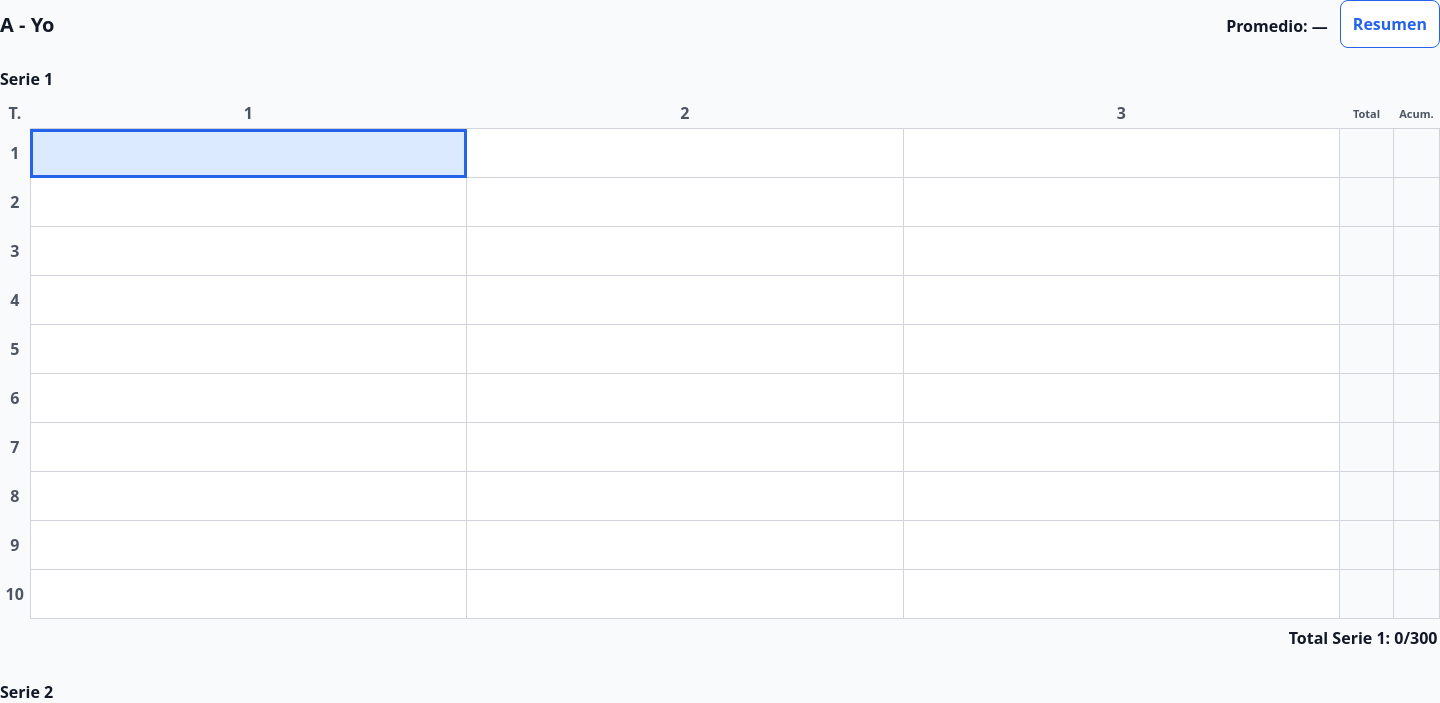
it: ScoringView › tapping an empty cell past the first gap writes out of order and leaves the gap
Click the button named "Serie 1, tanda 3, flecha 3: vacía": (1121, 251) [904,227,1339,275]
(page scrolled)
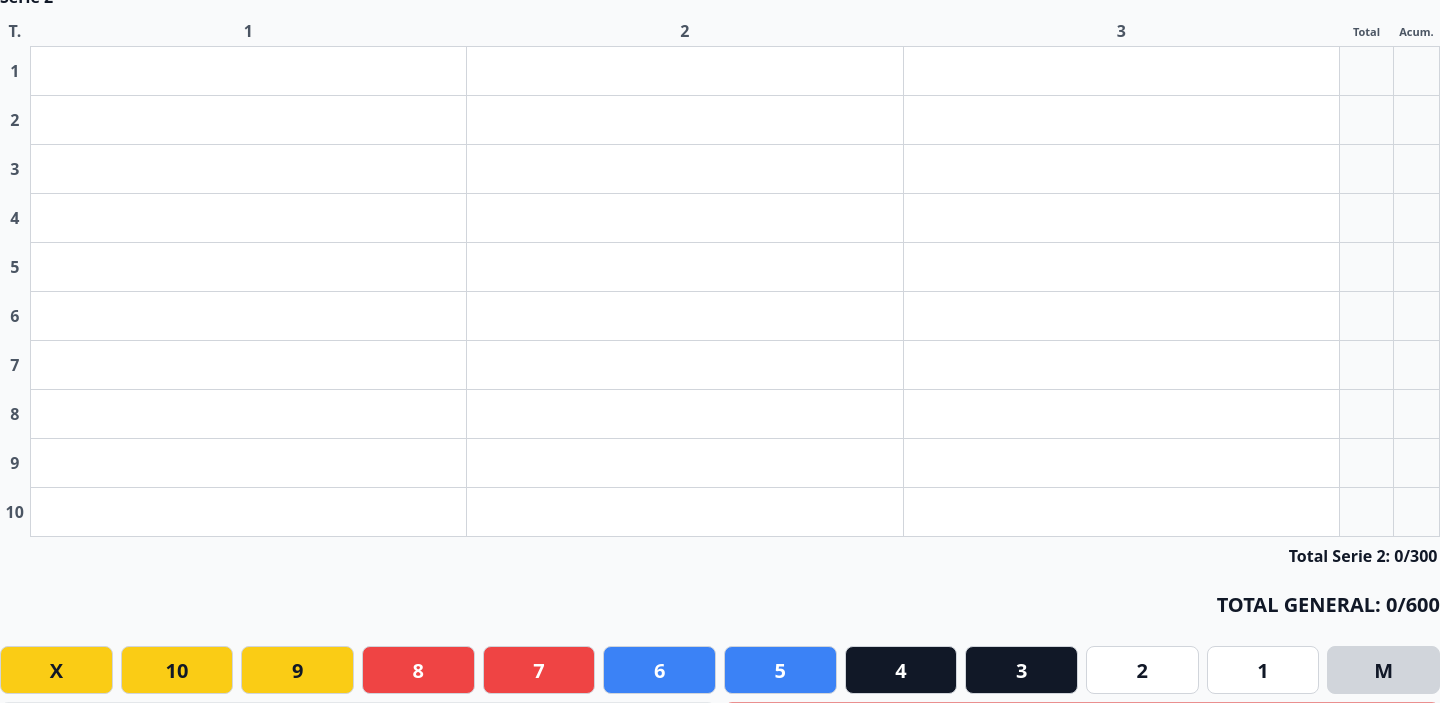
Click the button with test id "key-10": (177, 670) [121,646,233,694]
(page scrolled)
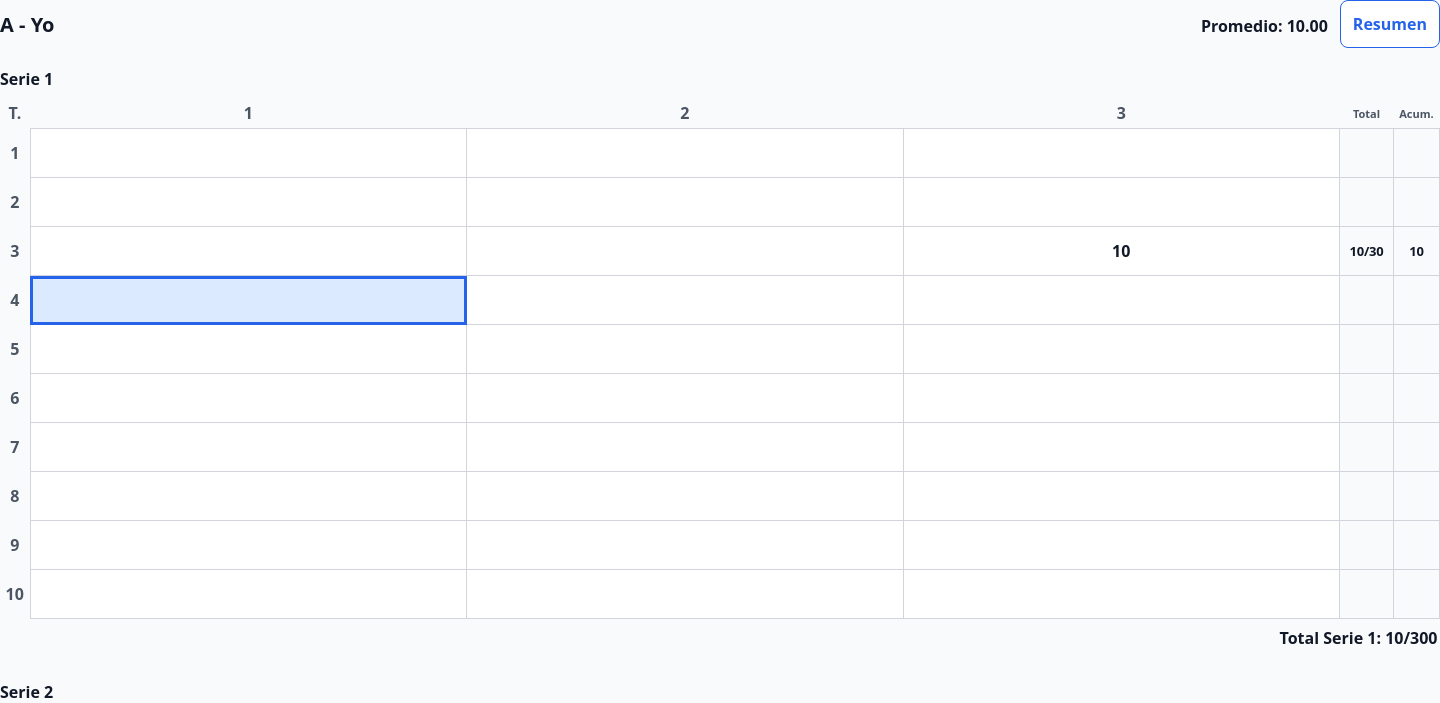
Check: the cell with test id "score-cell-2-2" reads "10", box [904,227,1339,275]
